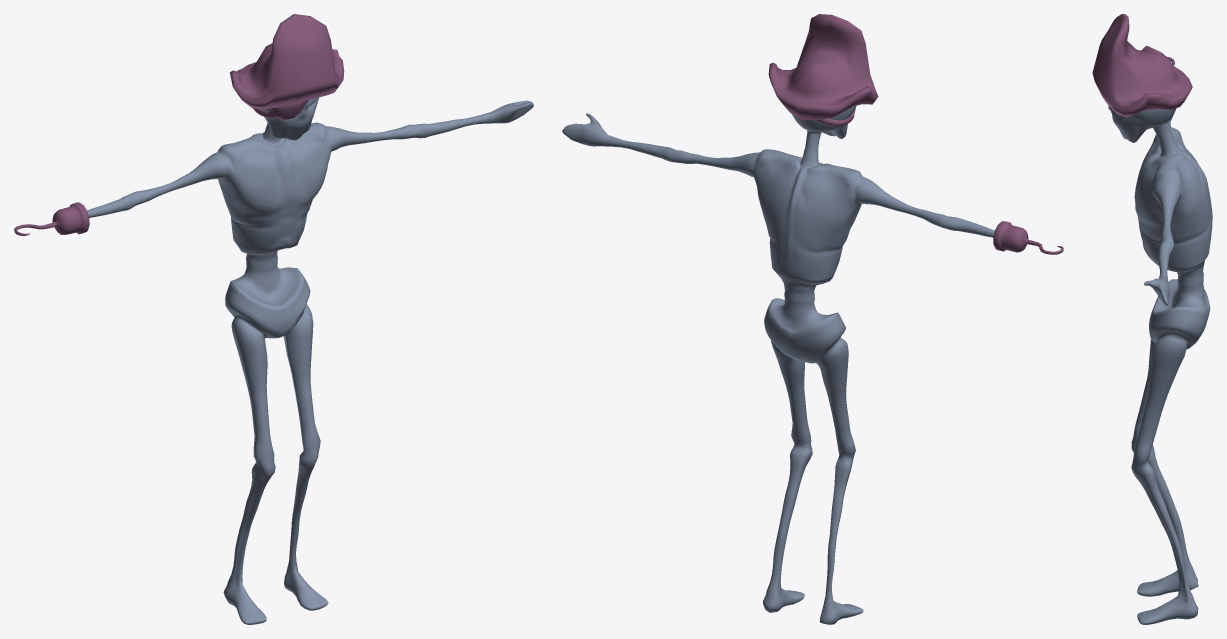
Rendered from Squeleton_2_LOW.fbx.
The picture shows the model from 3 angles, left to right: view 1: azimuth 30°, elevation 25°; view 2: azimuth 150°, elevation 25°; view 3: azimuth 270°, elevation 25°; orthographic projection. The views are drawn at different scales.
Visible parts, largest first — view 1: Squeleton_2_LOW; view 2: Squeleton_2_LOW; view 3: Squeleton_2_LOW.
Boxes of the visible parts, x1,y1,x2,y2 form: Squeleton_2_LOW: [14, 14, 533, 624]; Squeleton_2_LOW: [562, 14, 1063, 624]; Squeleton_2_LOW: [1092, 14, 1212, 624].
Size of the model in its own units: 454 by 508 by 93.69.
